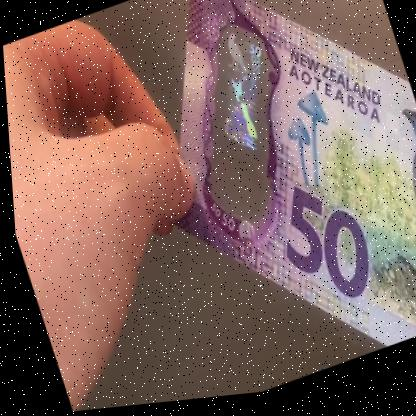50B: (184, 16, 307, 225)
